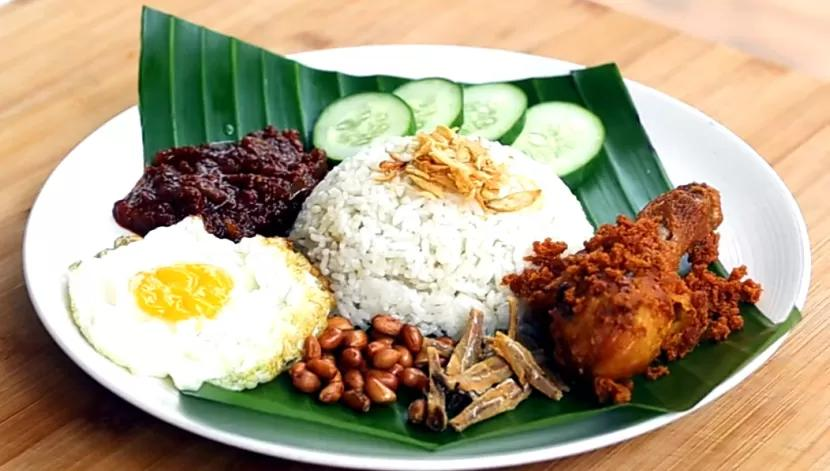Anchovies: (421, 310, 569, 433)
Cucumber: (314, 80, 603, 177)
Fried-Chicken: (515, 183, 758, 399)
Fried-Egg: (71, 216, 325, 392)
Peanuts: (292, 316, 427, 421)
Rice: (291, 136, 594, 337)
Sambal: (111, 127, 334, 242)
